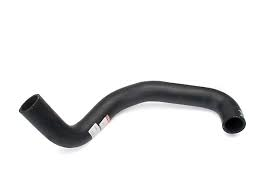radiator_hose: (23, 82, 245, 146)
